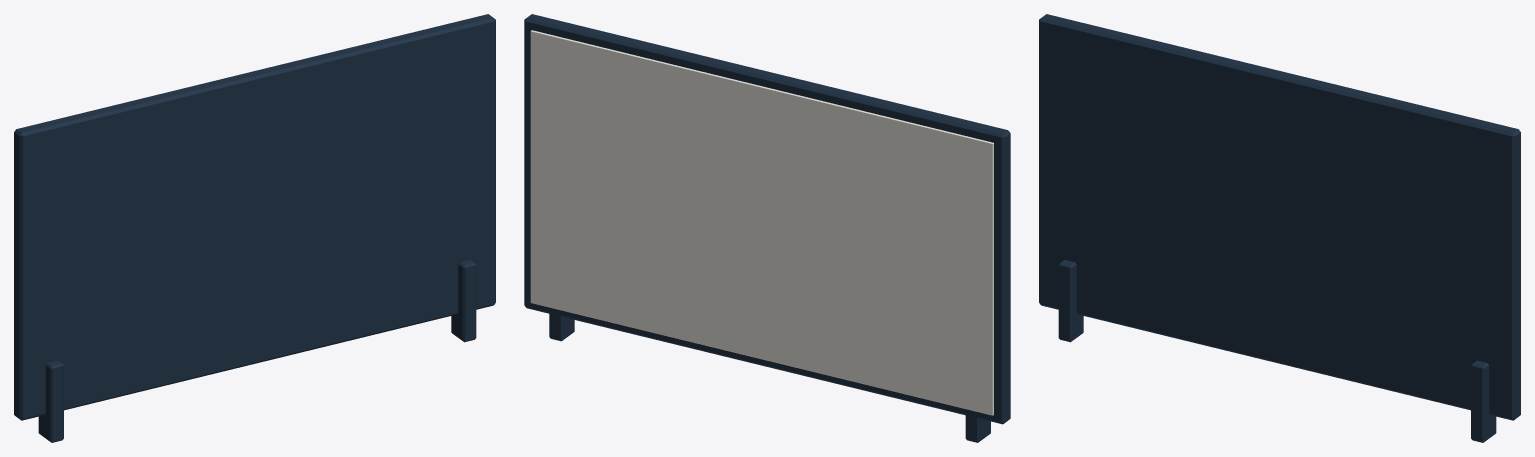
File: SM_PresentationScreen.obj
3 views of the same model, side by side, from view 1: azimuth 30°, elevation 25°; view 2: azimuth 150°, elevation 25°; view 3: azimuth 330°, elevation 25° (orthographic).
Parts seen in each view (by area): view 1: SM_PresentationScreen; view 2: SM_PresentationScreen; view 3: SM_PresentationScreen.
Boxes of the visible parts, x1,y1,x2,y2 form: SM_PresentationScreen: (14,14,495,442); SM_PresentationScreen: (524,14,1010,442); SM_PresentationScreen: (1039,14,1520,442).
Size of the model in its own units: 10.4 by 6.5 by 0.565.
